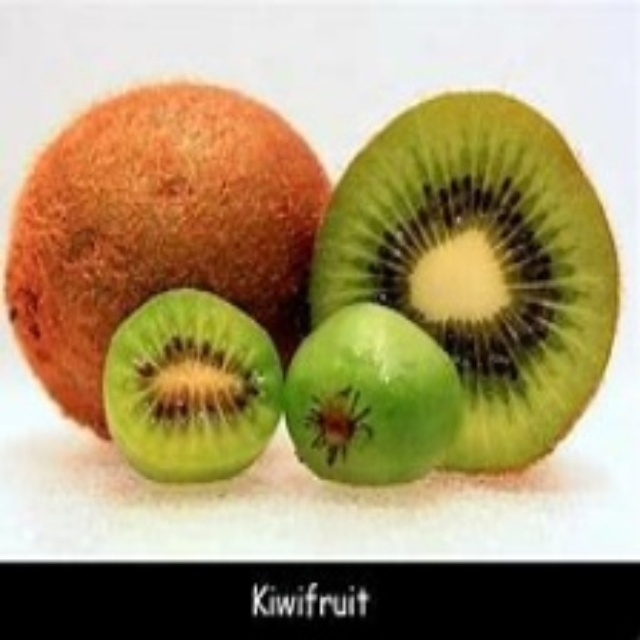kiwi: (316, 86, 627, 476), (7, 79, 338, 435), (79, 293, 476, 490)
